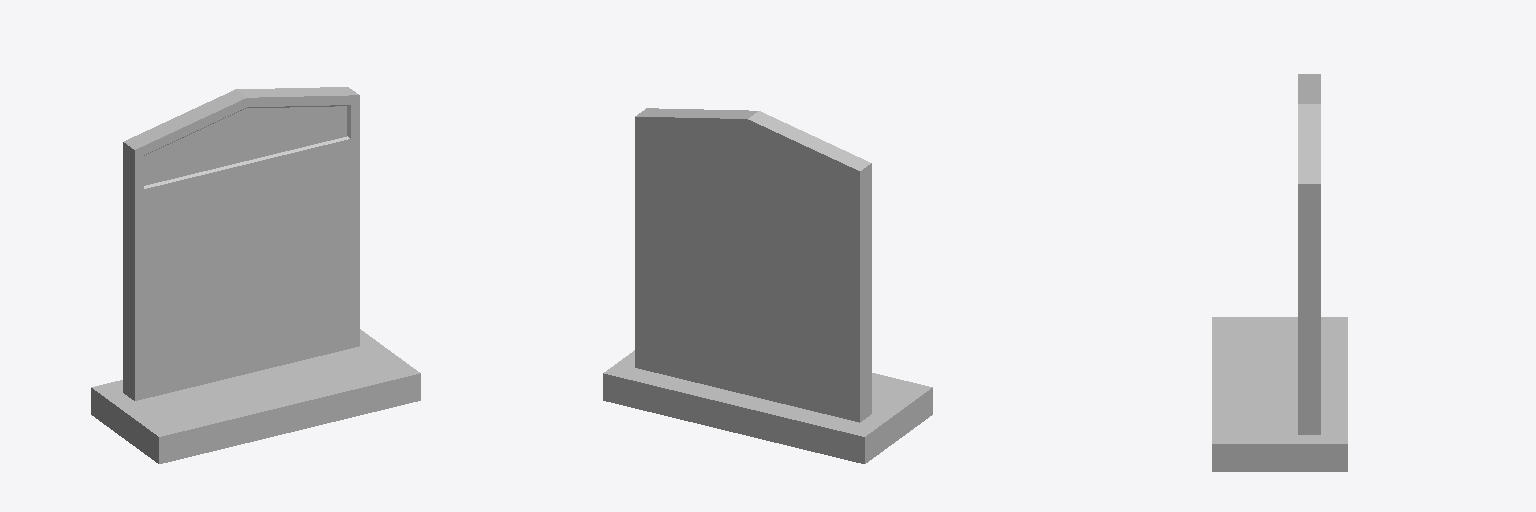
Rendered from headstone_02.obj.
3 renders of one model, left to right at view 1: azimuth 30°, elevation 25°; view 2: azimuth 150°, elevation 25°; view 3: azimuth 270°, elevation 25°, orthographic.
Parts seen in each view (by area): view 1: headstone_02; view 2: headstone_02; view 3: headstone_02.
Boxes of the visible parts, <box> form: headstone_02: <box>91,87,420,463</box>; headstone_02: <box>603,108,932,463</box>; headstone_02: <box>1212,74,1347,471</box>.
Size of the model in its own units: 1 by 1.11 by 0.45.